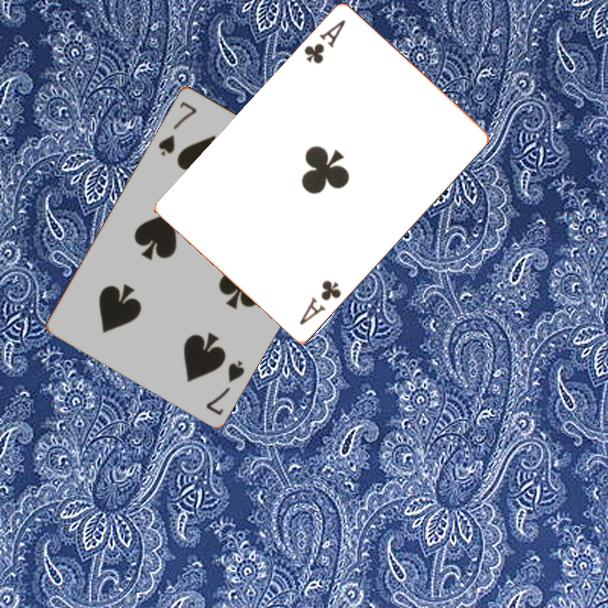c01: (296, 277, 344, 329), (300, 17, 349, 67)
s07: (154, 97, 200, 159), (202, 356, 248, 418)
